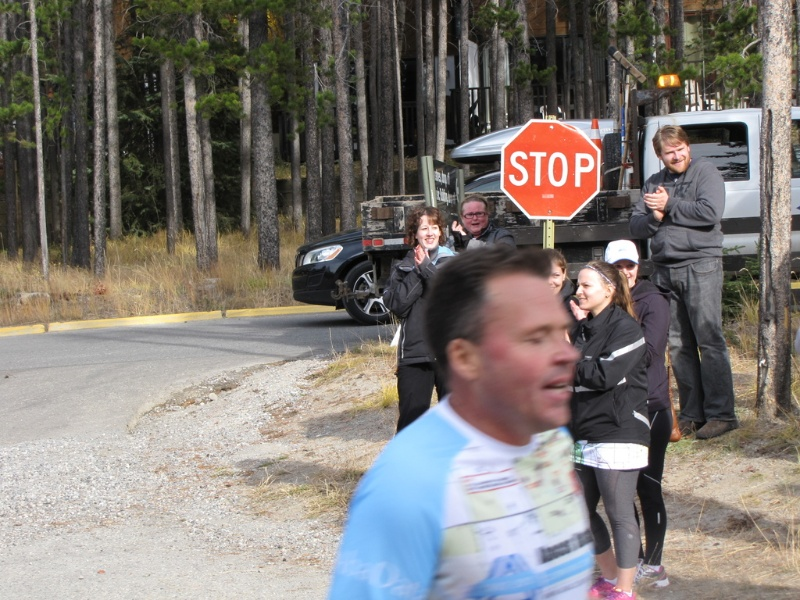stop: (493, 113, 606, 229)
